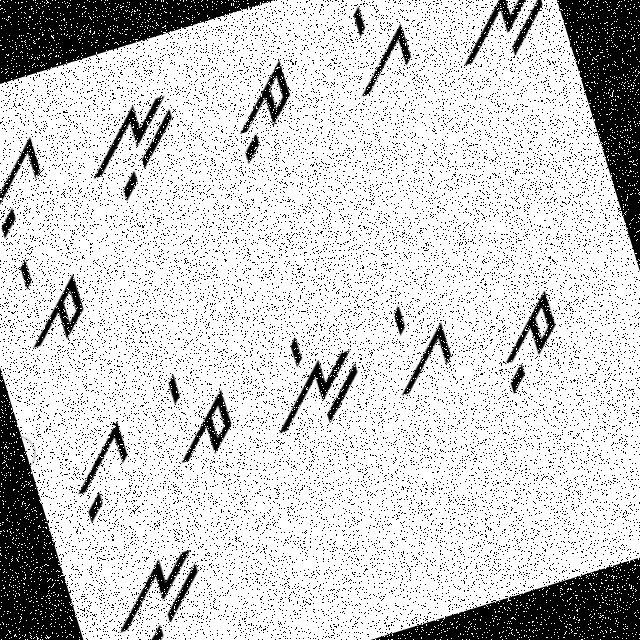ge: (368, 284, 468, 402), (325, 0, 431, 105)
gu: (49, 408, 153, 531), (0, 120, 69, 247)
nge: (252, 313, 378, 442), (432, 0, 562, 81)
ngu: (67, 86, 198, 218), (93, 542, 224, 639)
te: (146, 349, 248, 470), (0, 242, 105, 356)
tu: (475, 268, 582, 402), (204, 48, 316, 175)
